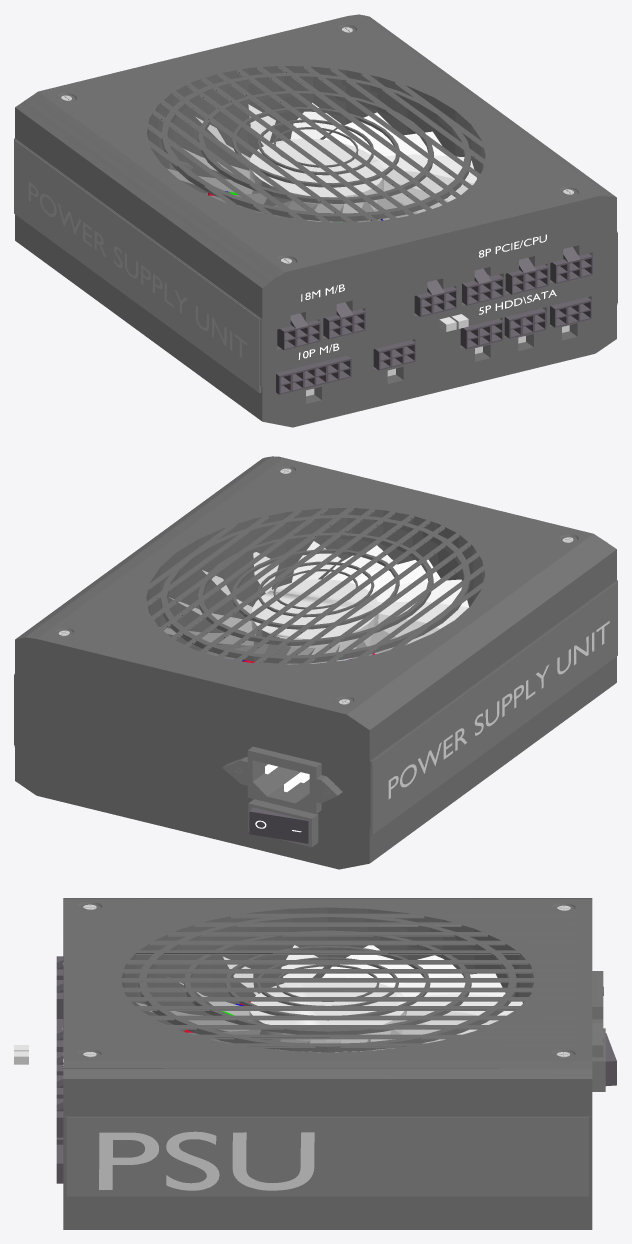
Rendered from psu.glb.
3 renders of one model, top to bottom at view 1: azimuth 30°, elevation 25°; view 2: azimuth 150°, elevation 25°; view 3: azimuth 270°, elevation 25°, orthographic. The views are drawn at different scales.
Parts seen in each view (by area): view 1: Object_8, Object_28, Object_34.001, Object_40.001; view 2: Object_8, Object_34.001, Object_28; view 3: Object_8, Object_34.001, Object_28.
Part boxes in pixels (x1,y1,x2,y2): Object_8: [14, 14, 617, 427]; Object_28: [28, 27, 592, 396]; Object_34.001: [14, 139, 617, 392]; Object_40.001: [298, 234, 556, 359]; Object_8: [14, 456, 617, 869]; Object_34.001: [14, 581, 617, 847]; Object_28: [58, 468, 609, 843]; Object_8: [63, 898, 592, 1229]; Object_34.001: [66, 971, 605, 1196]; Object_28: [14, 904, 616, 1190].
Bounding box in the file's own units: 0.1839 × 0.0759 × 0.2463.
Materials: 4 (4 with a texture image).
